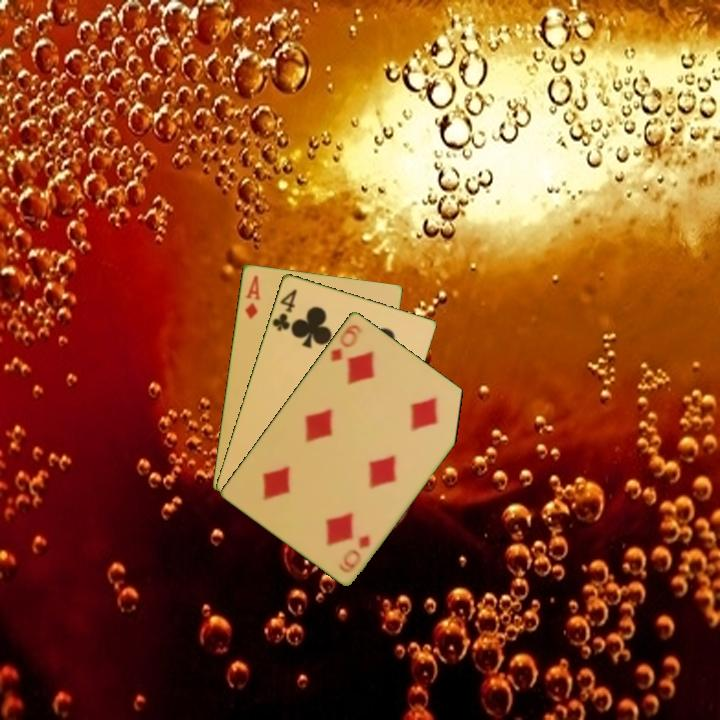4c: (268, 285, 300, 334)
6d: (326, 321, 365, 364), (339, 531, 373, 570)
Ad: (241, 271, 263, 321)
